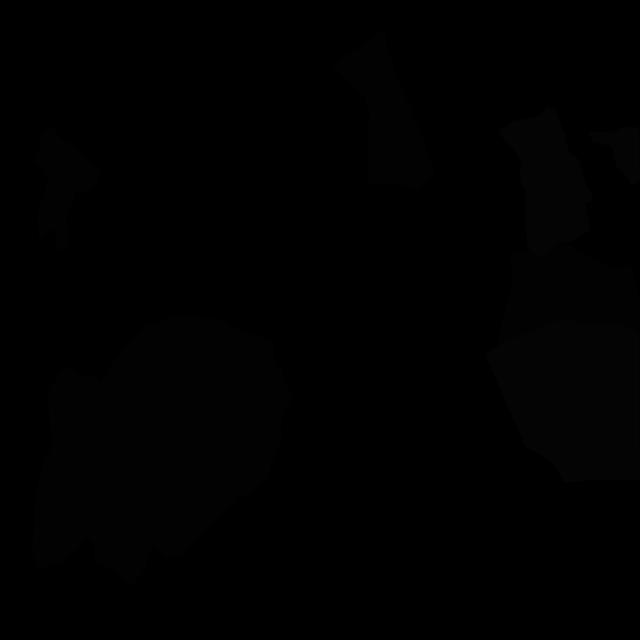cardboard: (80, 315, 296, 558), (32, 366, 154, 586), (332, 29, 434, 191), (497, 241, 640, 346), (33, 124, 102, 252)
soft_plastic: (485, 319, 640, 482), (498, 105, 593, 258), (589, 127, 640, 184)
